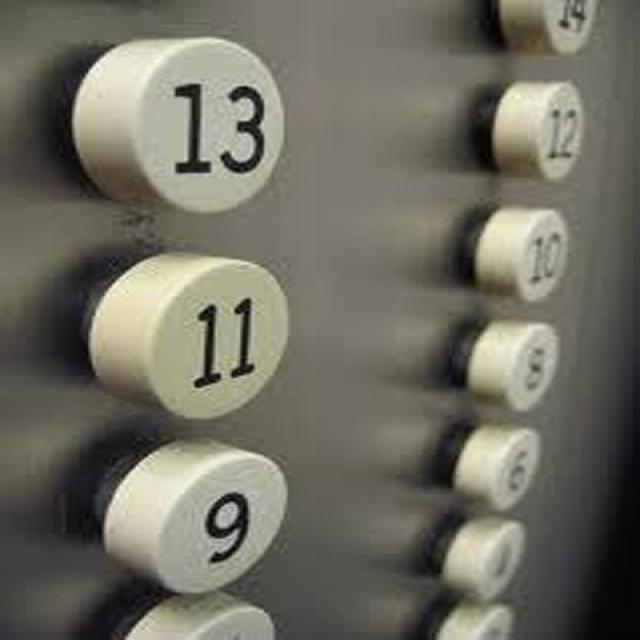10: (473, 204, 572, 304)
11: (84, 252, 291, 421)
12: (489, 78, 584, 181)
13: (70, 36, 286, 214)
6: (452, 423, 539, 509)
8: (466, 317, 558, 410)
9: (100, 437, 283, 595)
blur: (438, 516, 526, 597)
